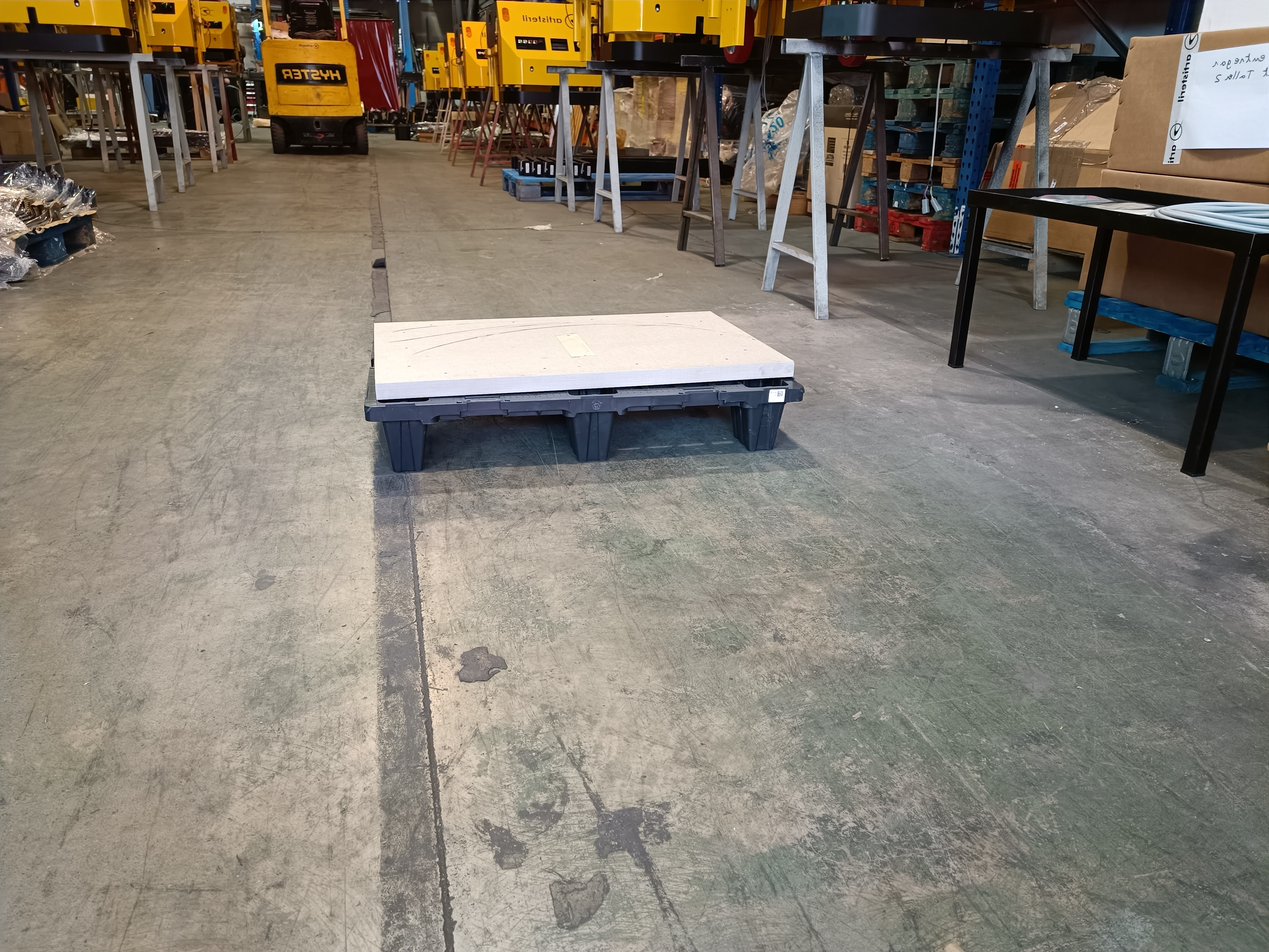block: (374, 422, 438, 478), (562, 414, 617, 463), (745, 405, 780, 450)
front: (371, 382, 805, 482)
hole pallet: (605, 403, 756, 467), (419, 417, 579, 467)
